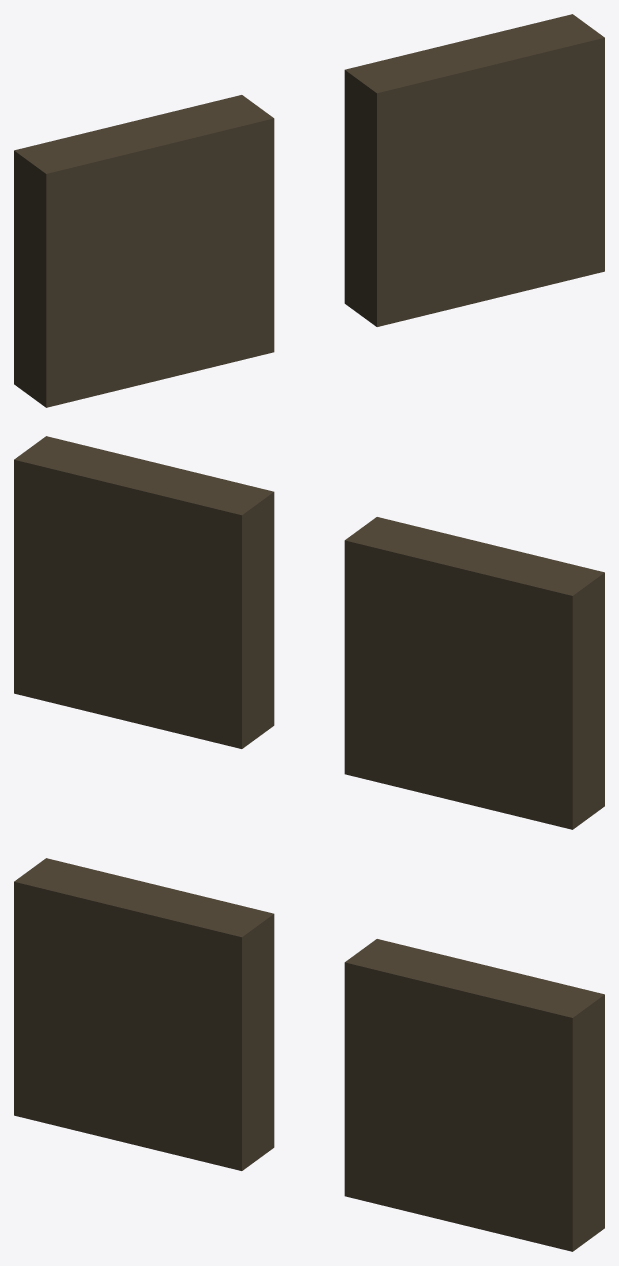
File: wall_door.fbx
3 renders of one model, top to bottom at view 1: azimuth 30°, elevation 25°; view 2: azimuth 150°, elevation 25°; view 3: azimuth 330°, elevation 25°, orthographic.
Parts seen in each view (by area): view 1: wall_door; view 2: wall_door; view 3: wall_door.
Part boxes in pixels (x1,y1,x2,y2): wall_door: (14,14,604,407); wall_door: (14,436,604,829); wall_door: (14,858,604,1251).
Size of the model in its own units: 10 by 1 by 4.
